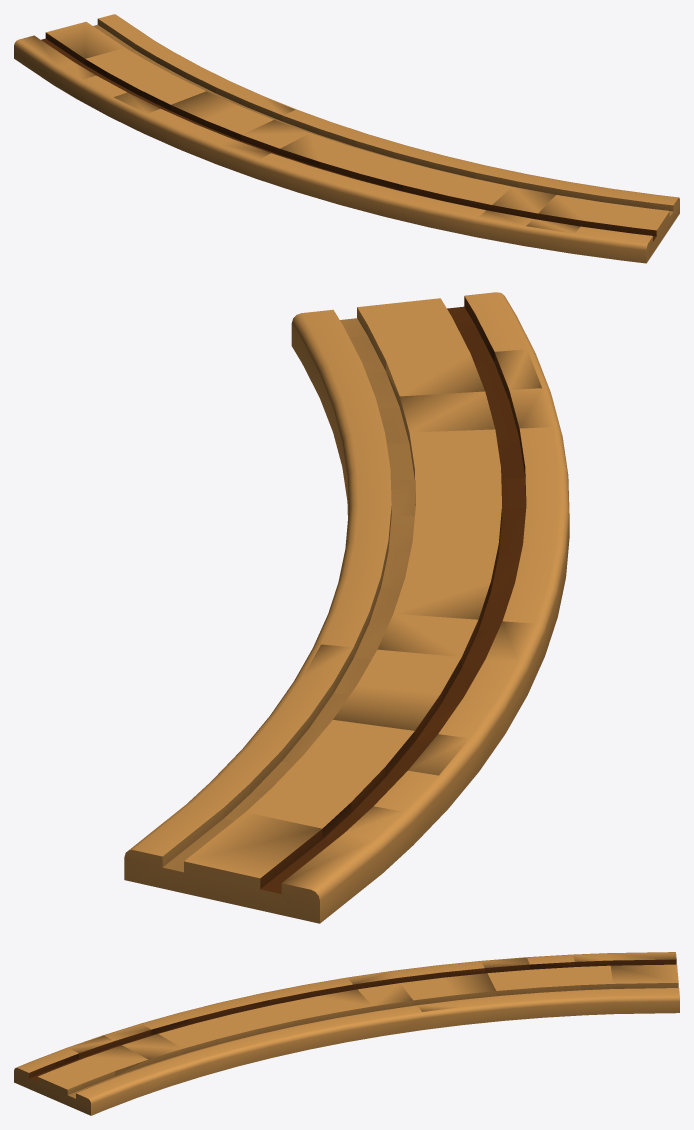
Rendered from GentleLeft.fbx.
3 renders of one model, top to bottom at view 1: azimuth 30°, elevation 25°; view 2: azimuth 150°, elevation 25°; view 3: azimuth 270°, elevation 25°, orthographic. The views are drawn at different scales.
Parts seen in each view (by area): view 1: GentleLeft; view 2: GentleLeft; view 3: GentleLeft.
Part boxes in pixels (x1=…): GentleLeft: x1=14, y1=14, x2=679, y2=263; GentleLeft: x1=124, y1=292, x2=569, y2=923; GentleLeft: x1=14, y1=952, x2=679, y2=1115.
Size of the model in its own units: 3.2 by 0.16 by 6.02.
